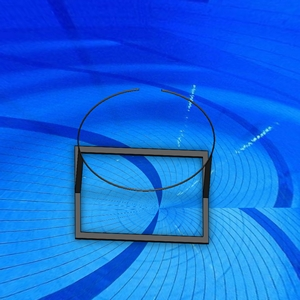circle: (73, 87, 217, 246)
